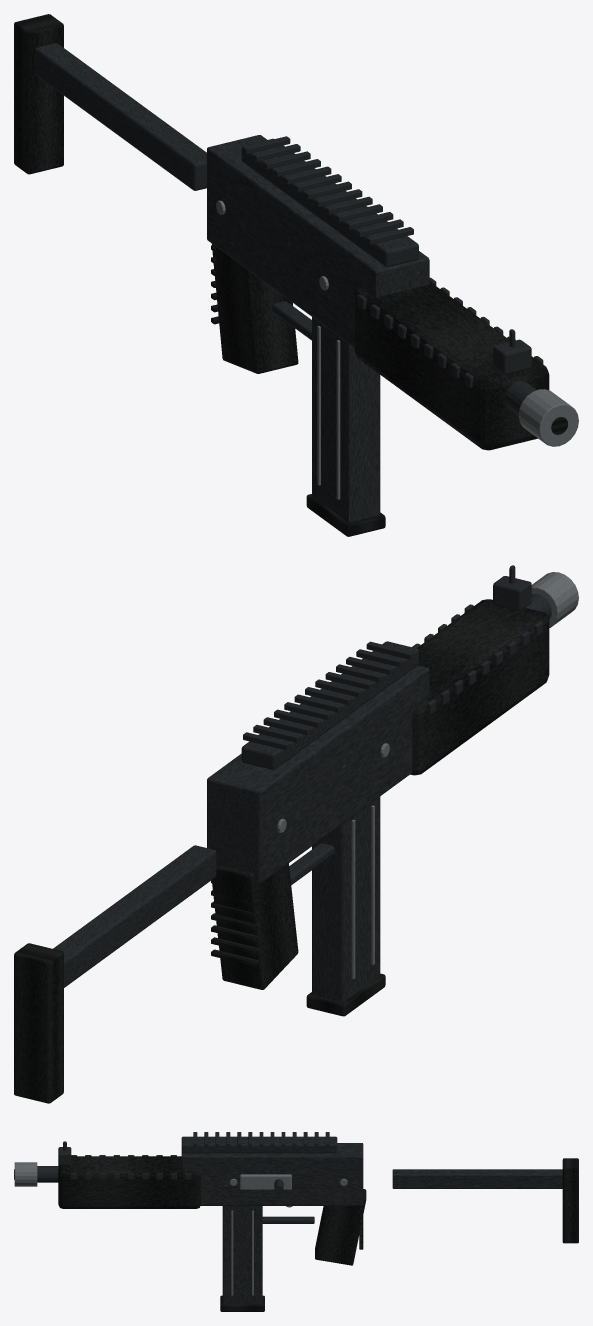
3 renders of one model, top to bottom at view 1: azimuth 30°, elevation 25°; view 2: azimuth 150°, elevation 25°; view 3: azimuth 270°, elevation 25°, orthographic. The views are drawn at different scales.
Parts seen in each view (by area): view 1: W_PP9_M_V14Metal, W_PP9_M_V14Polymer, W_PP9_Mag_M_V14Metal, W_PP9_M_V14Steel, W_PP9_Mag_M_V14Steel, W_PP9_Mag_M_V14Polymer; view 2: W_PP9_M_V14Metal, W_PP9_M_V14Polymer, W_PP9_Mag_M_V14Metal, W_PP9_M_V14Steel, W_PP9_Mag_M_V14Steel, W_PP9_Mag_M_V14Polymer; view 3: W_PP9_M_V14Metal, W_PP9_M_V14Polymer, W_PP9_Mag_M_V14Metal, W_PP9_Bolt_M_V14Steel, W_PP9_M_V14Steel, W_PP9_Mag_M_V14Steel, W_PP9_Mag_M_V14Polymer.
Part boxes in pixels (box(x1,y1,x2,y2)): W_PP9_M_V14Metal: box(35, 43, 543, 414); W_PP9_M_V14Polymer: box(14, 14, 567, 450); W_PP9_Mag_M_V14Metal: box(312, 317, 380, 522); W_PP9_M_V14Steel: box(216, 200, 578, 446); W_PP9_Mag_M_V14Steel: box(317, 326, 340, 499); W_PP9_Mag_M_V14Polymer: box(306, 494, 385, 536); W_PP9_M_V14Metal: box(53, 565, 551, 987); W_PP9_M_V14Polymer: box(14, 599, 549, 1103); W_PP9_Mag_M_V14Metal: box(312, 796, 380, 1001); W_PP9_M_V14Steel: box(277, 572, 578, 832); W_PP9_Mag_M_V14Steel: box(351, 805, 374, 979); W_PP9_Mag_M_V14Polymer: box(306, 973, 385, 1016); W_PP9_M_V14Metal: box(37, 1132, 562, 1223); W_PP9_M_V14Polymer: box(14, 1156, 578, 1265); W_PP9_Mag_M_V14Metal: box(222, 1206, 262, 1304); W_PP9_Bolt_M_V14Steel: box(240, 1174, 291, 1189); W_PP9_M_V14Steel: box(14, 1162, 347, 1207); W_PP9_Mag_M_V14Steel: box(231, 1210, 253, 1295); W_PP9_Mag_M_V14Polymer: box(220, 1295, 264, 1311).
Bounding box in the file's own units: 9 × 28.85 × 87.1.
